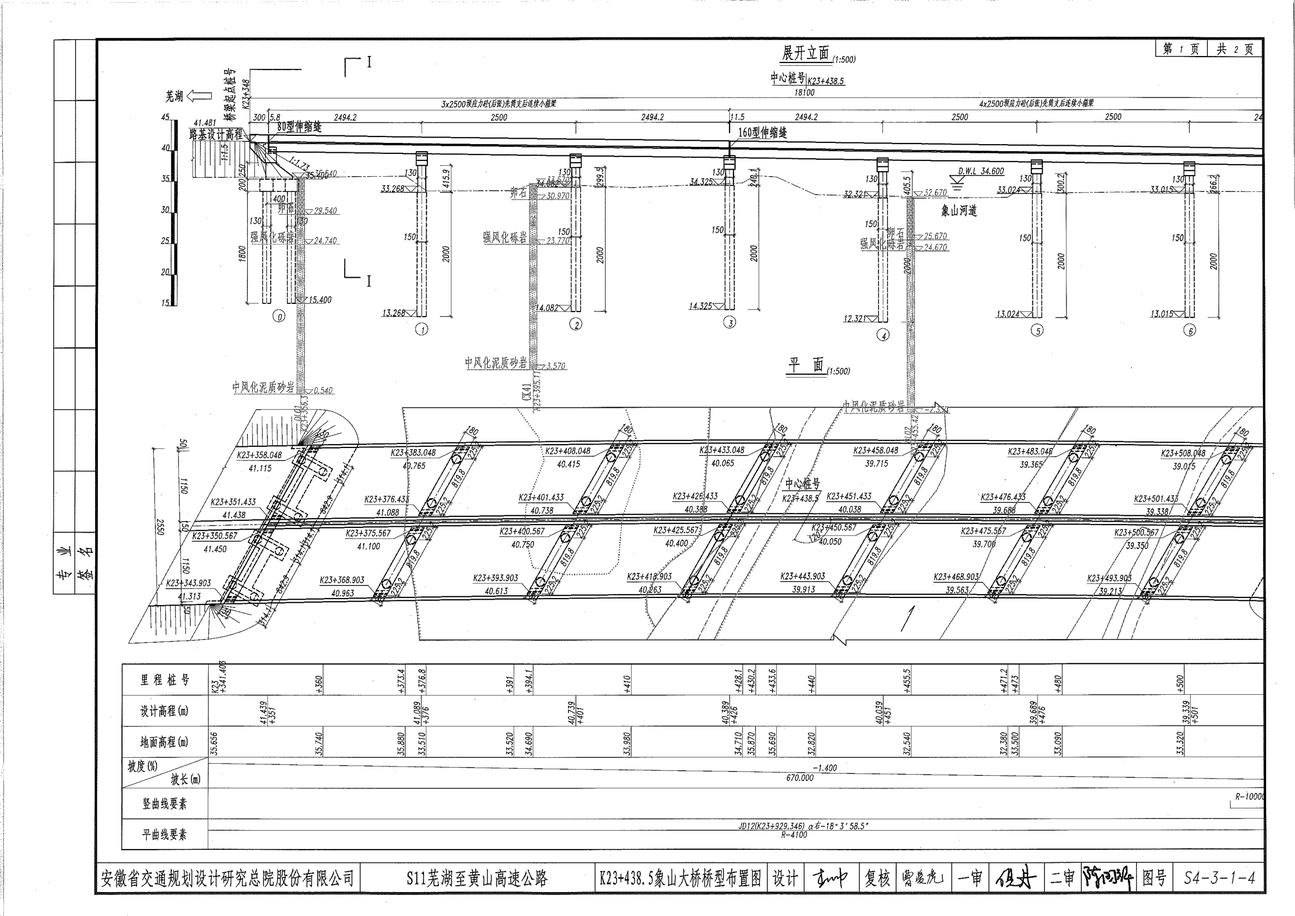A: (141, 42, 1275, 347)
